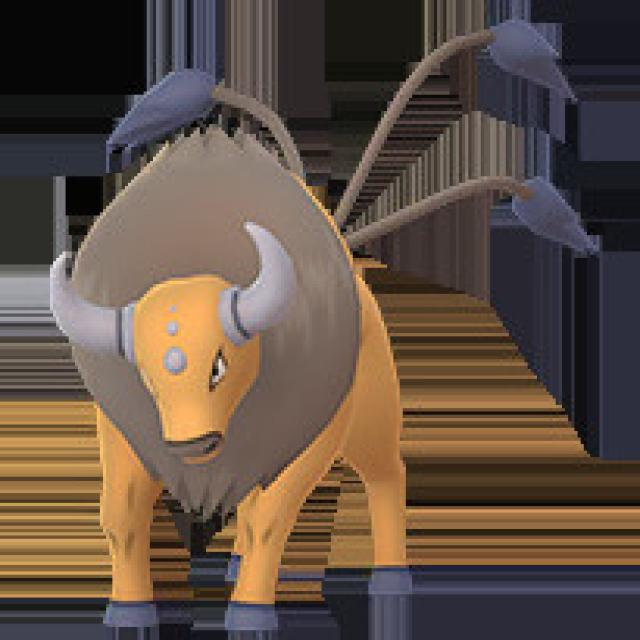Tauros: (25, 154, 410, 640)
